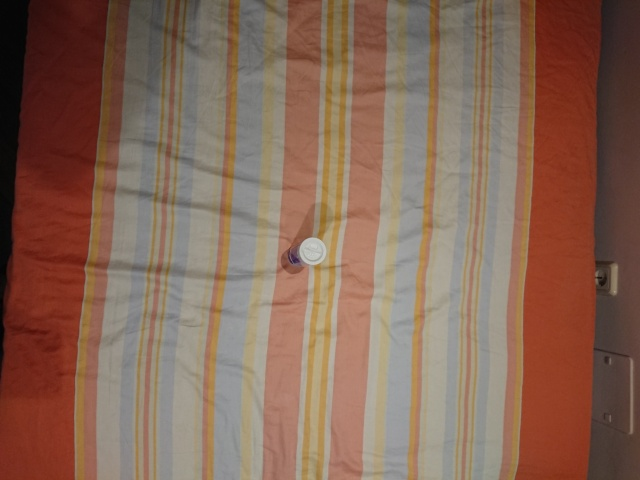Solana Pag Fine Sea Salt 250g: (285, 235, 330, 270)
